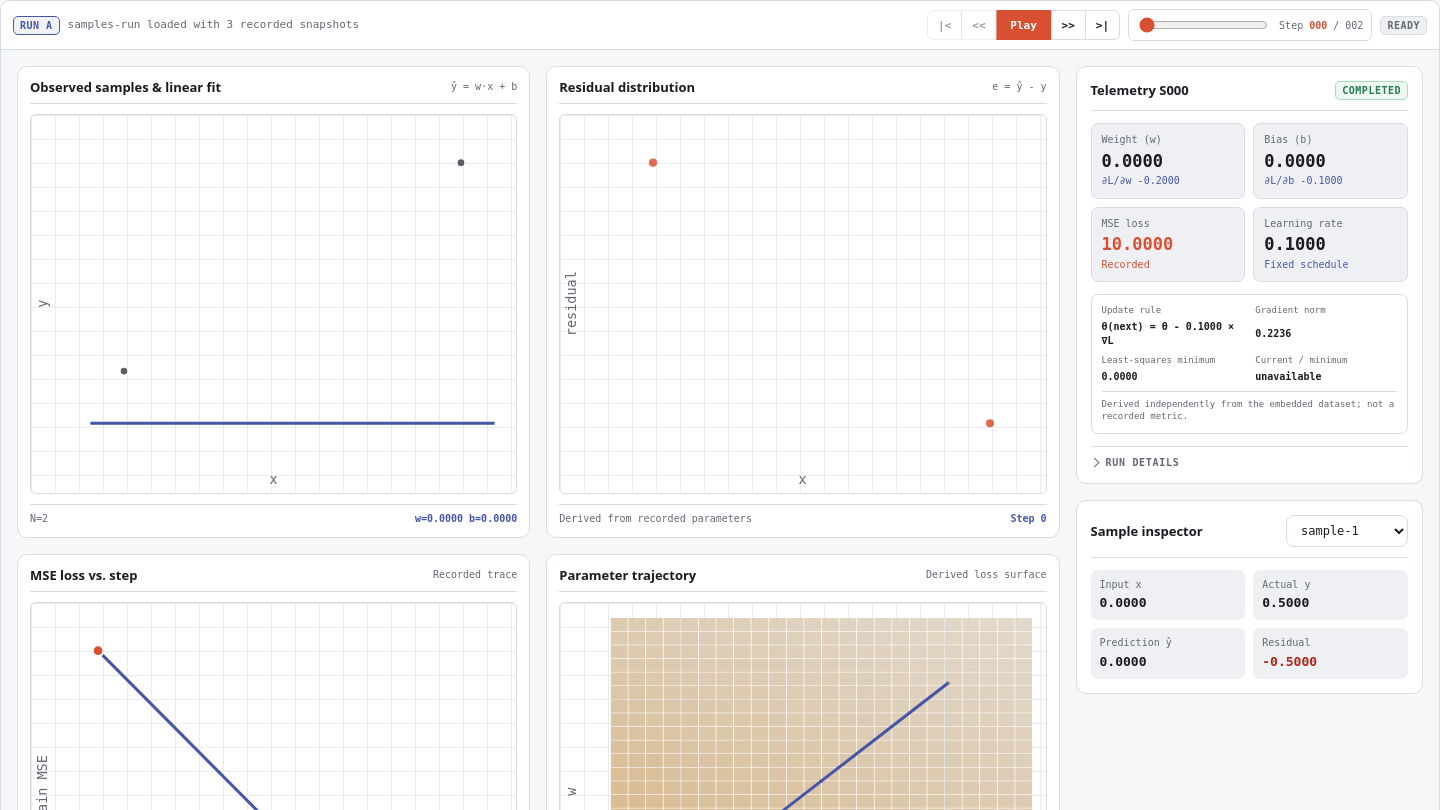
Scenario: RunWorkspace › lets the user select an observed sample and updates its visible readout
Select "sample-2" in the dropdown named "Selected sample" at (1347, 531), box [1286,515,1408,547]
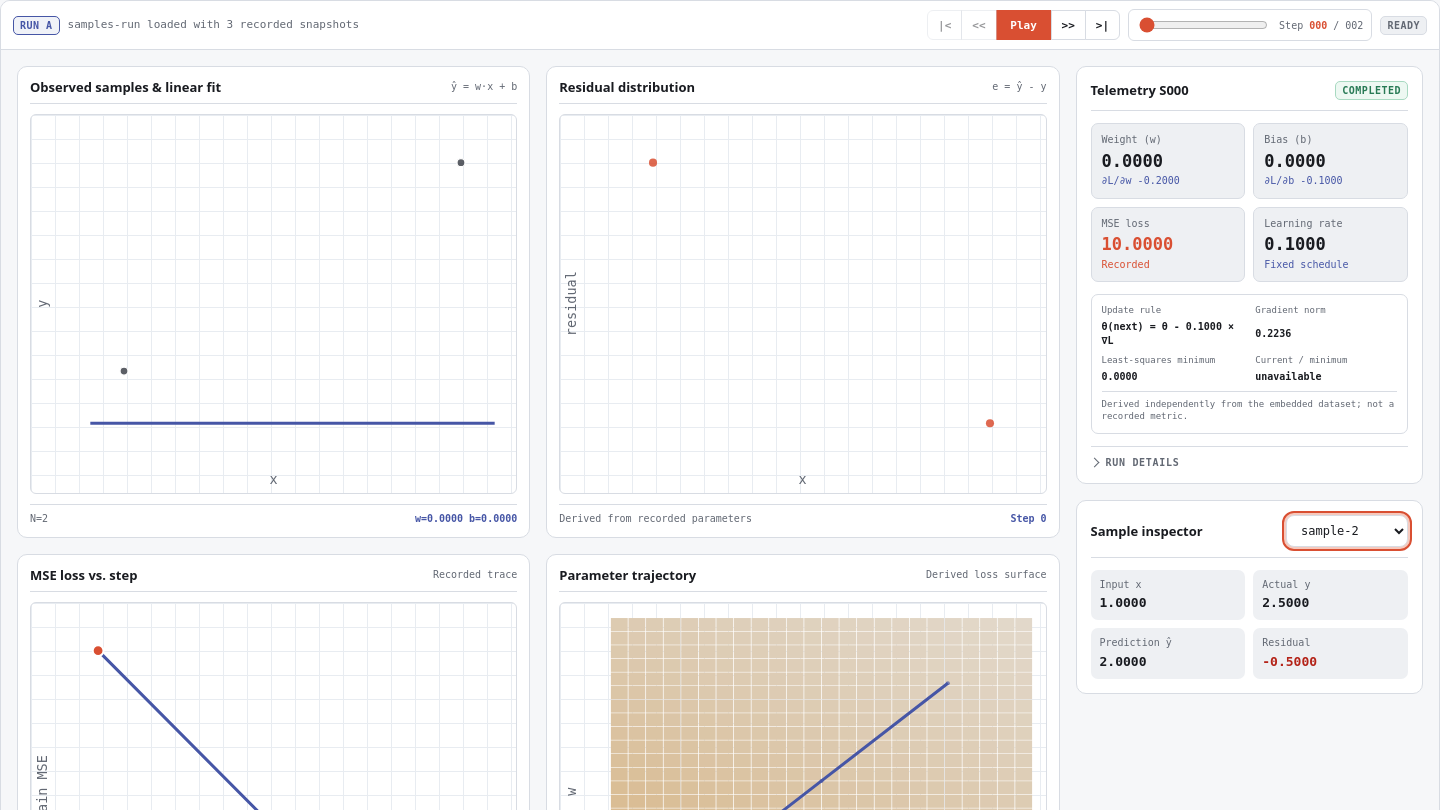
Expected: the text "1.0000" is shown, [1100,595,1146,610]
Expected: the text "2.5000" is shown, [1262,595,1309,610]
Expected: the text "2.0000" is shown, [1100,654,1146,669]
